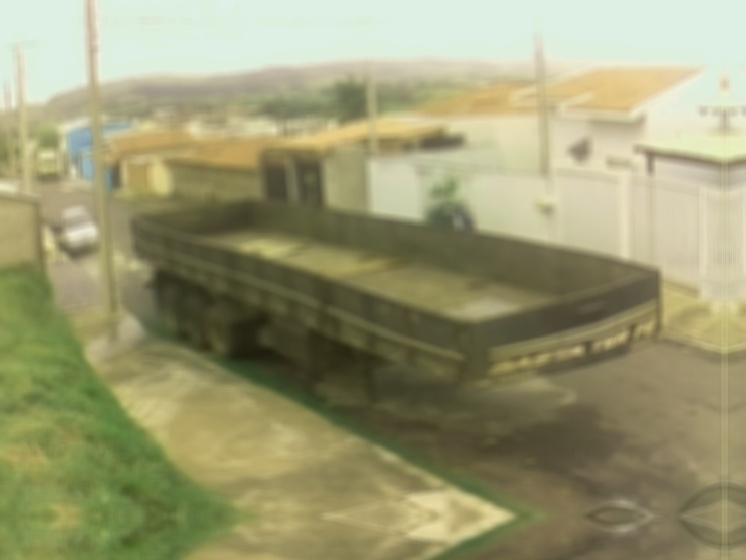person: (432, 203, 477, 233)
